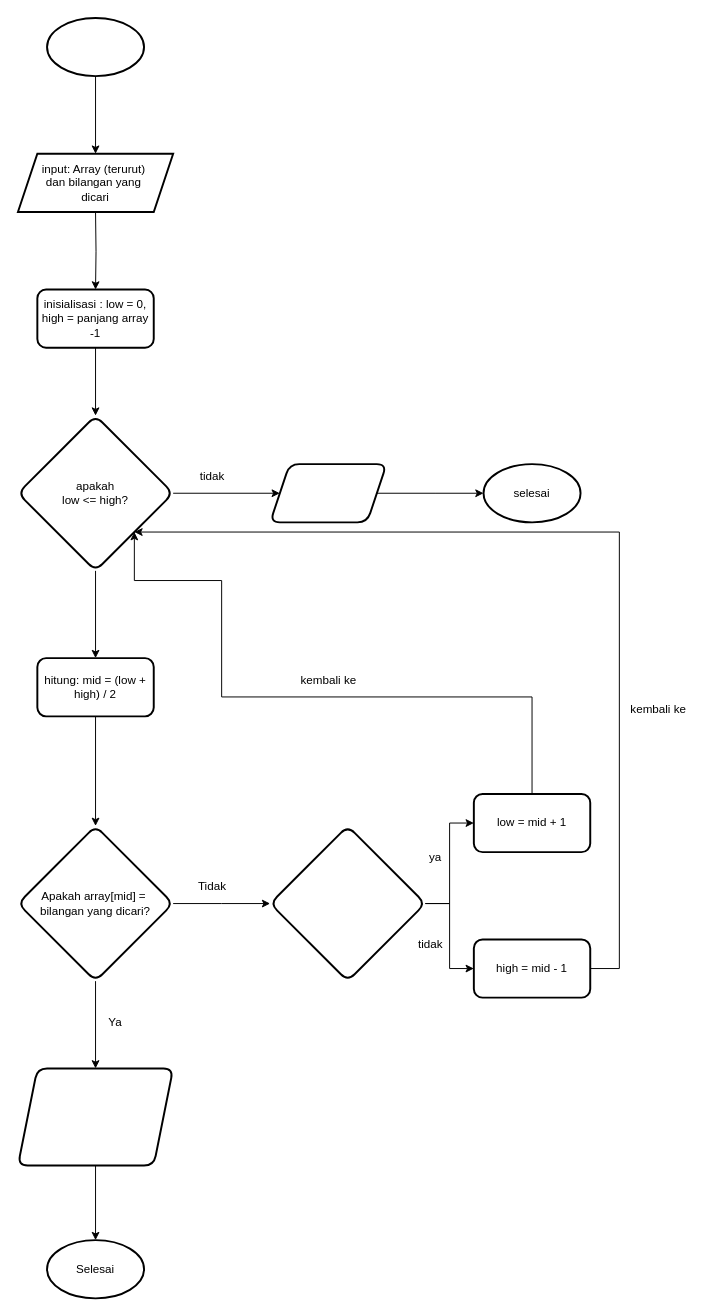
Some shapes in this 713 by 1315 pixel diagram are drawn without their labels. The centre of each missing label's shape, as x and y in pixels:
"Apakah array[mid] < bilangan yang dicari?" goes at [347,903].
"output: 'bilangan ditemukan di indeks mid'" goes at [95,1116].
"output: bilangan t idak ditemukan" goes at [328,493].
"start" goes at [95,46].
